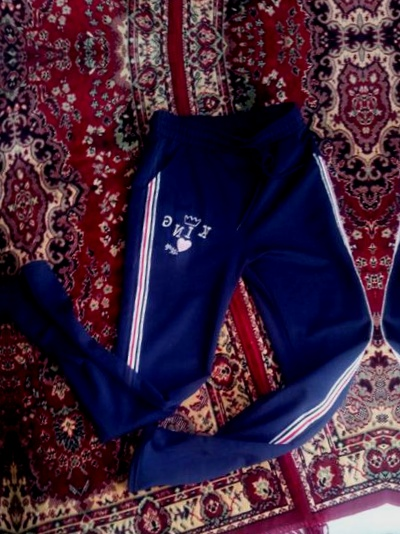Pants: (9, 75, 374, 511), (377, 55, 400, 490), (0, 0, 346, 20)
